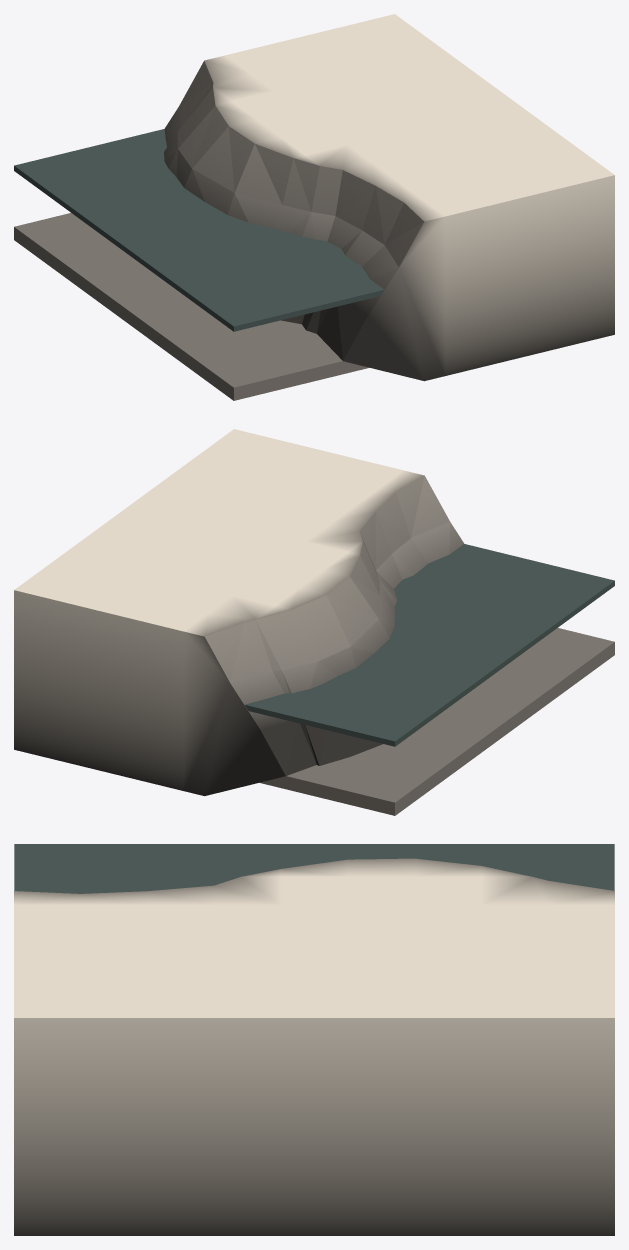
File: SM_VKI_Ground_Stream_XOOX_Q01.fbx
3 renders of one model, top to bottom at view 1: azimuth 30°, elevation 25°; view 2: azimuth 150°, elevation 25°; view 3: azimuth 270°, elevation 25°, orthographic. The views are drawn at different scales.
Parts seen in each view (by area): view 1: SM_VKI_Ground_Stream_XOOX_Q01.001; view 2: SM_VKI_Ground_Stream_XOOX_Q01.001; view 3: SM_VKI_Ground_Stream_XOOX_Q01.001.
Part boxes in pixels (box(x1,y1,x2,y2)): SM_VKI_Ground_Stream_XOOX_Q01.001: box(14, 14, 614, 400); SM_VKI_Ground_Stream_XOOX_Q01.001: box(14, 429, 614, 815); SM_VKI_Ground_Stream_XOOX_Q01.001: box(14, 844, 614, 1235).
Bounding box in the file's own units: 1.5 × 0.6 × 1.5.
